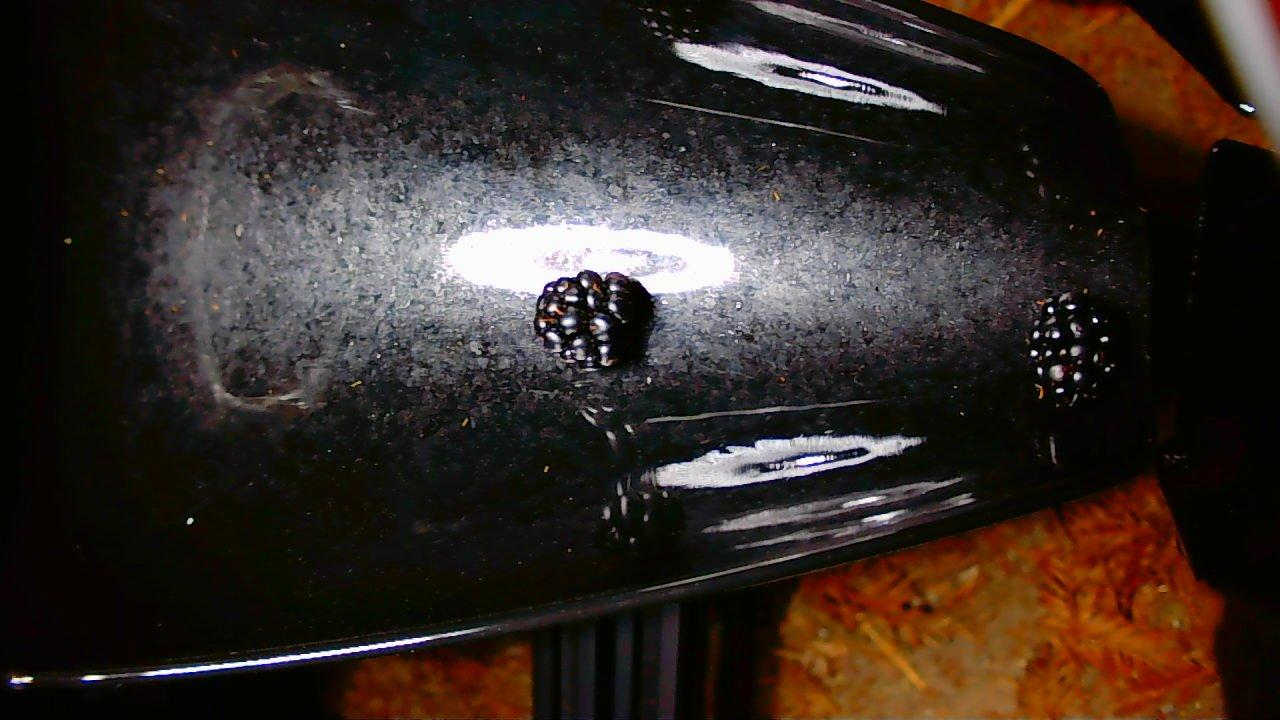berry: (534, 270, 651, 369), (1027, 291, 1118, 407)
